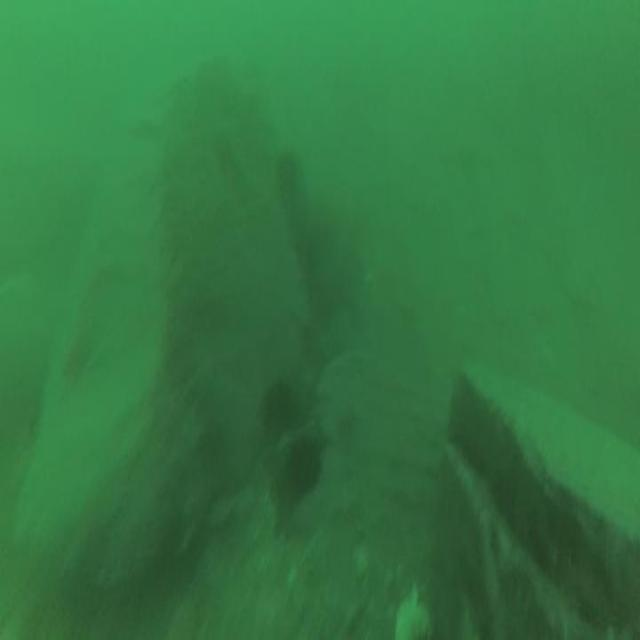echinus: (284, 428, 326, 503), (261, 373, 304, 446)
